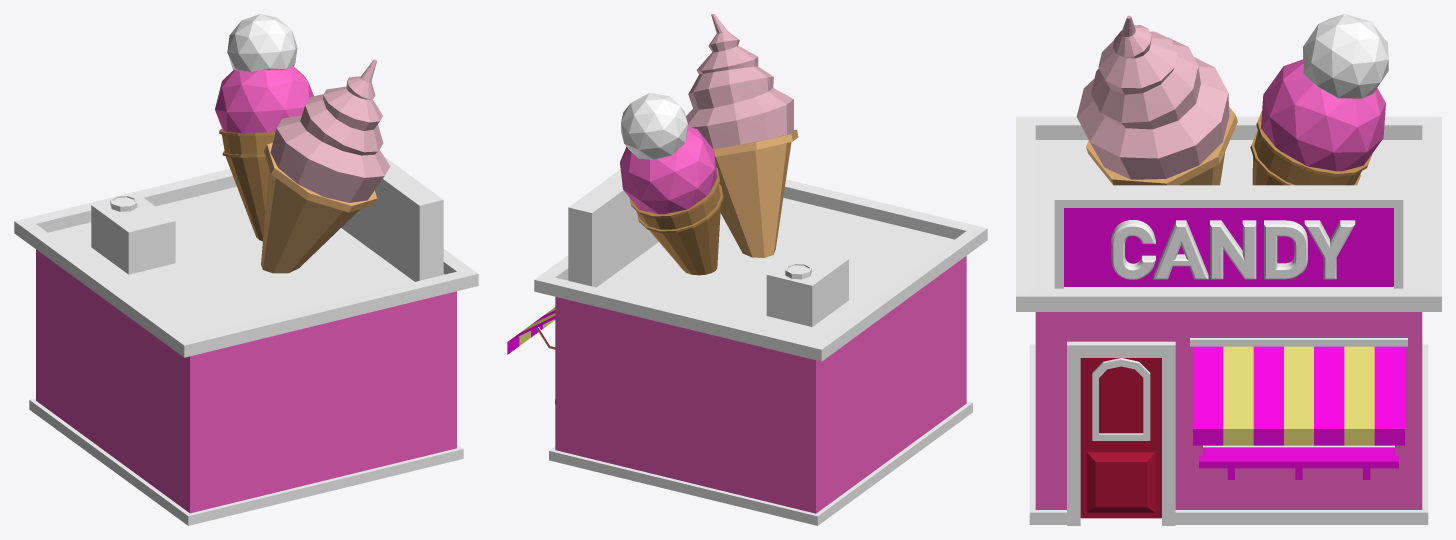
The model's file is tienda.obj.
3 renders of one model, left to right at view 1: azimuth 30°, elevation 25°; view 2: azimuth 150°, elevation 25°; view 3: azimuth 270°, elevation 25°, orthographic. The views are drawn at different scales.
Visible parts, largest first — view 1: Frame_Cube.008_Material.015, Frame_Cube.008_Material.014, Frame_Cube.008_Material.019, Frame_Cube.008_Material.009, Frame_Cube.008_Material.017, Frame_Cube.008_Material.021, Frame_Cube.008_Material.018, Frame_Cube.008_Material.020, Frame_Cube.008_Material.016; view 2: Frame_Cube.008_Material.015, Frame_Cube.008_Material.014, Frame_Cube.008_Material.019, Frame_Cube.008_Material.017, Frame_Cube.008_Material.009, Frame_Cube.008_Material.018, Frame_Cube.008_Material.021, Frame_Cube.008_Material.016, Frame_Cube.008_Material.020; view 3: Frame_Cube.008_Material.014, Frame_Cube.008_Material.015, Frame_Cube.008_Violet.001, Frame_Cube.008_Material.019, Frame_Cube.008_Material.011, Frame_Cube.008_Material.013, Frame_Cube.008_Material.009, Frame_Cube.008_Material.008, Frame_Cube.008_Material.010, Frame_Cube.008_Material.018, Frame_Cube.008_Material.020, Frame_Cube.008_Material.012 (+3 smaller).
Part boxes in pixels (x1=…): Frame_Cube.008_Material.015: x1=36, y1=249, x2=456, y2=513; Frame_Cube.008_Material.014: x1=14, y1=169, x2=478, y2=525; Frame_Cube.008_Material.019: x1=270, y1=59, x2=390, y2=202; Frame_Cube.008_Material.009: x1=341, y1=156, x2=443, y2=281; Frame_Cube.008_Material.017: x1=261, y1=142, x2=377, y2=273; Frame_Cube.008_Material.021: x1=91, y1=194, x2=175, y2=274; Frame_Cube.008_Material.018: x1=215, y1=66, x2=313, y2=133; Frame_Cube.008_Material.020: x1=227, y1=14, x2=297, y2=72; Frame_Cube.008_Material.016: x1=219, y1=129, x2=275, y2=241; Frame_Cube.008_Material.015: x1=555, y1=256, x2=966, y2=513; Frame_Cube.008_Material.014: x1=534, y1=179, x2=987, y2=525; Frame_Cube.008_Material.019: x1=686, y1=14, x2=793, y2=148; Frame_Cube.008_Material.017: x1=713, y1=129, x2=798, y2=257; Frame_Cube.008_Material.009: x1=568, y1=169, x2=658, y2=287; Frame_Cube.008_Material.018: x1=620, y1=126, x2=717, y2=214; Frame_Cube.008_Material.021: x1=766, y1=248, x2=848, y2=326; Frame_Cube.008_Material.016: x1=629, y1=167, x2=723, y2=275; Frame_Cube.008_Material.020: x1=621, y1=93, x2=687, y2=159; Frame_Cube.008_Material.014: x1=1016, y1=116, x2=1441, y2=525; Frame_Cube.008_Material.015: x1=1035, y1=312, x2=1422, y2=509; Frame_Cube.008_Violet.001: x1=1064, y1=208, x2=1393, y2=286; Frame_Cube.008_Material.019: x1=1076, y1=15, x2=1229, y2=179; Frame_Cube.008_Material.011: x1=1193, y1=346, x2=1404, y2=445; Frame_Cube.008_Material.013: x1=1080, y1=358, x2=1161, y2=518; Frame_Cube.008_Material.009: x1=1054, y1=185, x2=1403, y2=288; Frame_Cube.008_Material.008: x1=1111, y1=220, x2=1355, y2=279; Frame_Cube.008_Material.010: x1=1223, y1=346, x2=1374, y2=445; Frame_Cube.008_Material.018: x1=1261, y1=59, x2=1385, y2=171; Frame_Cube.008_Material.020: x1=1303, y1=14, x2=1388, y2=99; Frame_Cube.008_Material.012: x1=1199, y1=447, x2=1398, y2=479.
Size of the model in its own units: 5.04 by 5.47 by 4.41.
